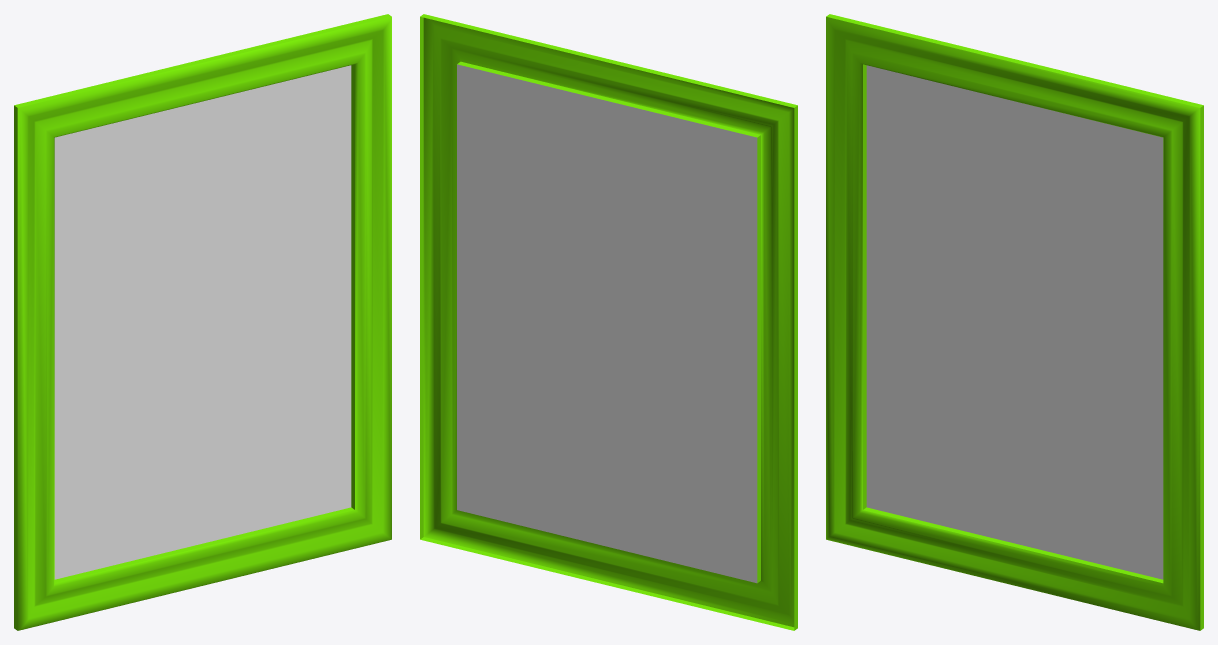
Rendered from painting_4_mesh.fbx.
3 renders of one model, left to right at view 1: azimuth 30°, elevation 25°; view 2: azimuth 150°, elevation 25°; view 3: azimuth 330°, elevation 25°, orthographic.
Parts seen in each view (by area): view 1: painting; view 2: painting; view 3: painting.
Boxes of the visible parts, bbox=[...] form: painting: bbox=[14, 14, 391, 630]; painting: bbox=[420, 14, 797, 630]; painting: bbox=[826, 14, 1203, 630].
Bounding box in the file's own units: 0.8782 × 1.17 × 0.02.
